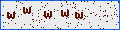w: (5, 10, 17, 21), (43, 10, 53, 20), (22, 6, 32, 15), (74, 11, 84, 20), (60, 9, 70, 17)
